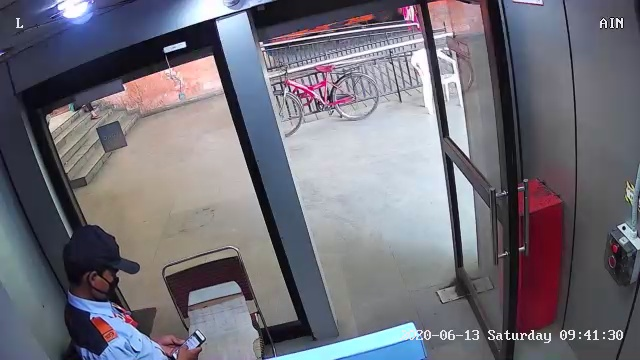open: (400, 4, 555, 355)
